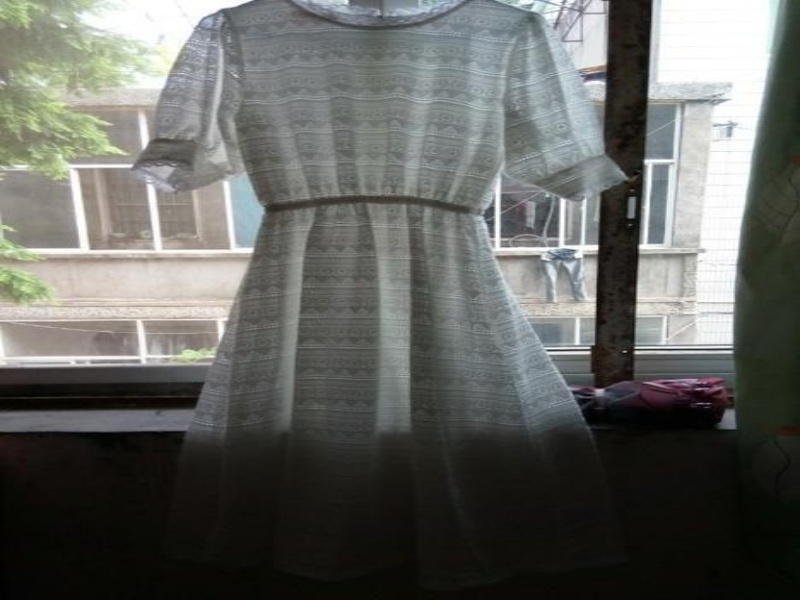short_sleeved_dress: (121, 0, 644, 594)
